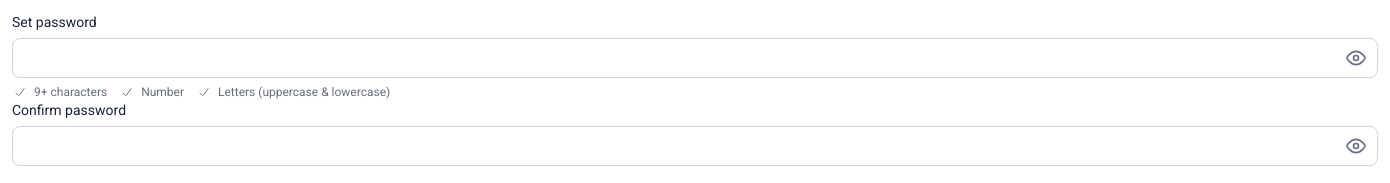
Test case: PasswordField › reveals the password of its own field only
The image size is (1390, 183).
Click the 1st button named "Show password": click(1356, 58) [1342,44,1370,72]
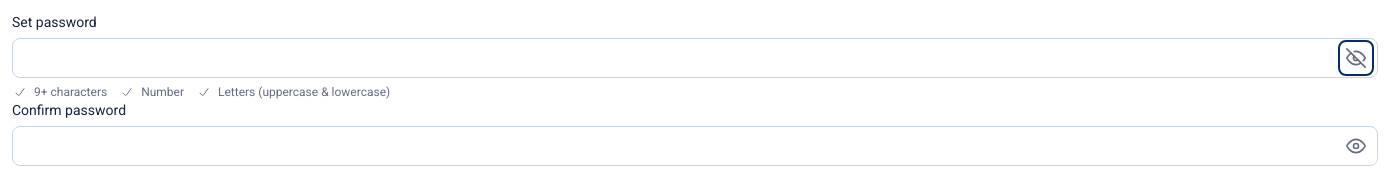
expect the button named "Hide password" is shown: met, box [1342,44,1370,72]
